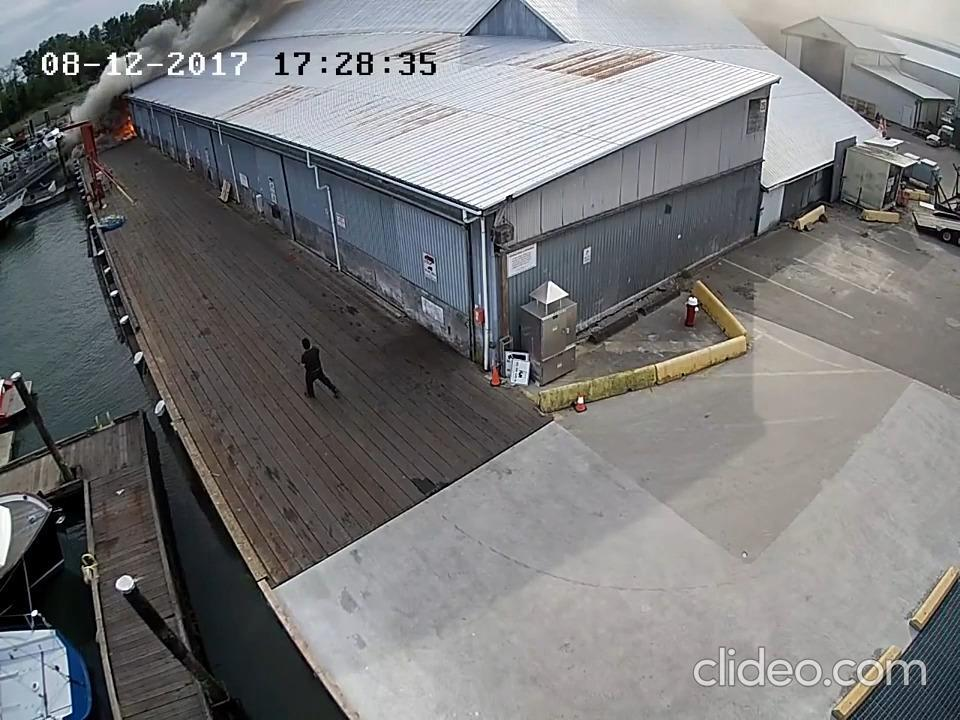fire: (112, 113, 140, 144)
